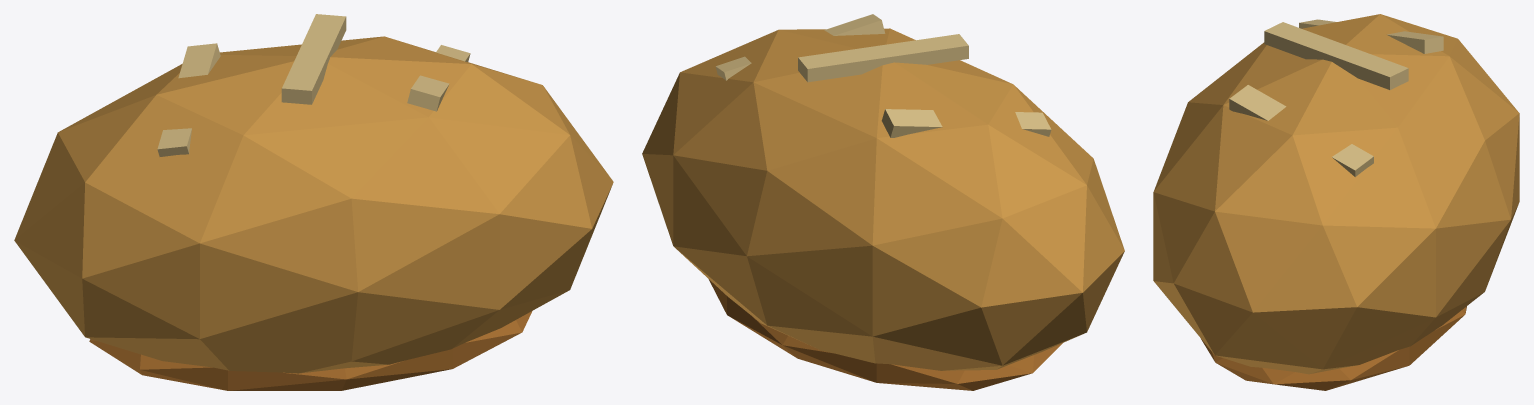
File: pile-bread-1.gltf
The picture shows the model from 3 angles, left to right: view 1: azimuth 30°, elevation 25°; view 2: azimuth 150°, elevation 25°; view 3: azimuth 270°, elevation 25°; orthographic projection. The views are drawn at different scales.
Visible parts, largest first — view 1: pile-bread-1; view 2: pile-bread-1; view 3: pile-bread-1.
Part boxes in pixels (x1,y1,x2,y2): pile-bread-1: (14, 14, 613, 390); pile-bread-1: (642, 14, 1124, 390); pile-bread-1: (1153, 14, 1519, 390).
Size of the model in its own units: 0.3443 by 0.2025 by 0.2306.
